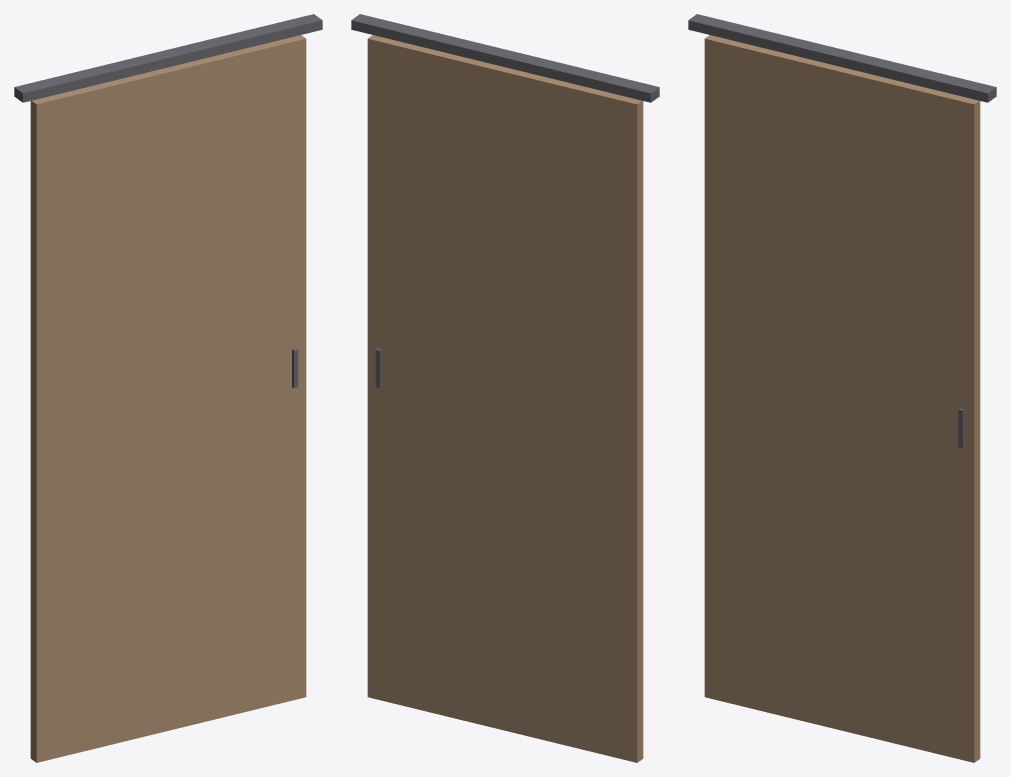
File: sliding_door.glb
3 views of the same model, side by side, from view 1: azimuth 30°, elevation 25°; view 2: azimuth 150°, elevation 25°; view 3: azimuth 330°, elevation 25° (orthographic).
Parts seen in each view (by area): view 1: SlidingDoor_Panel, SlidingDoor_Rail; view 2: SlidingDoor_Panel, SlidingDoor_Rail; view 3: SlidingDoor_Panel, SlidingDoor_Rail.
Part boxes in pixels (<box>): SlidingDoor_Panel: <box>30,35,306,762</box>; SlidingDoor_Rail: <box>14,14,322,102</box>; SlidingDoor_Panel: <box>367,35,643,762</box>; SlidingDoor_Rail: <box>351,14,659,102</box>; SlidingDoor_Panel: <box>704,35,980,762</box>; SlidingDoor_Rail: <box>688,14,996,102</box>.
Bounding box in the file's own units: 1 × 2.15 × 0.055.
